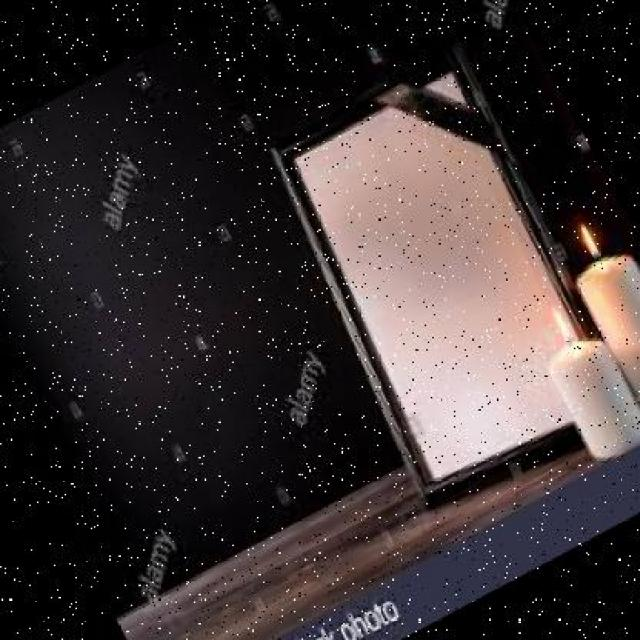fire: (537, 296, 575, 344), (568, 216, 604, 264)
